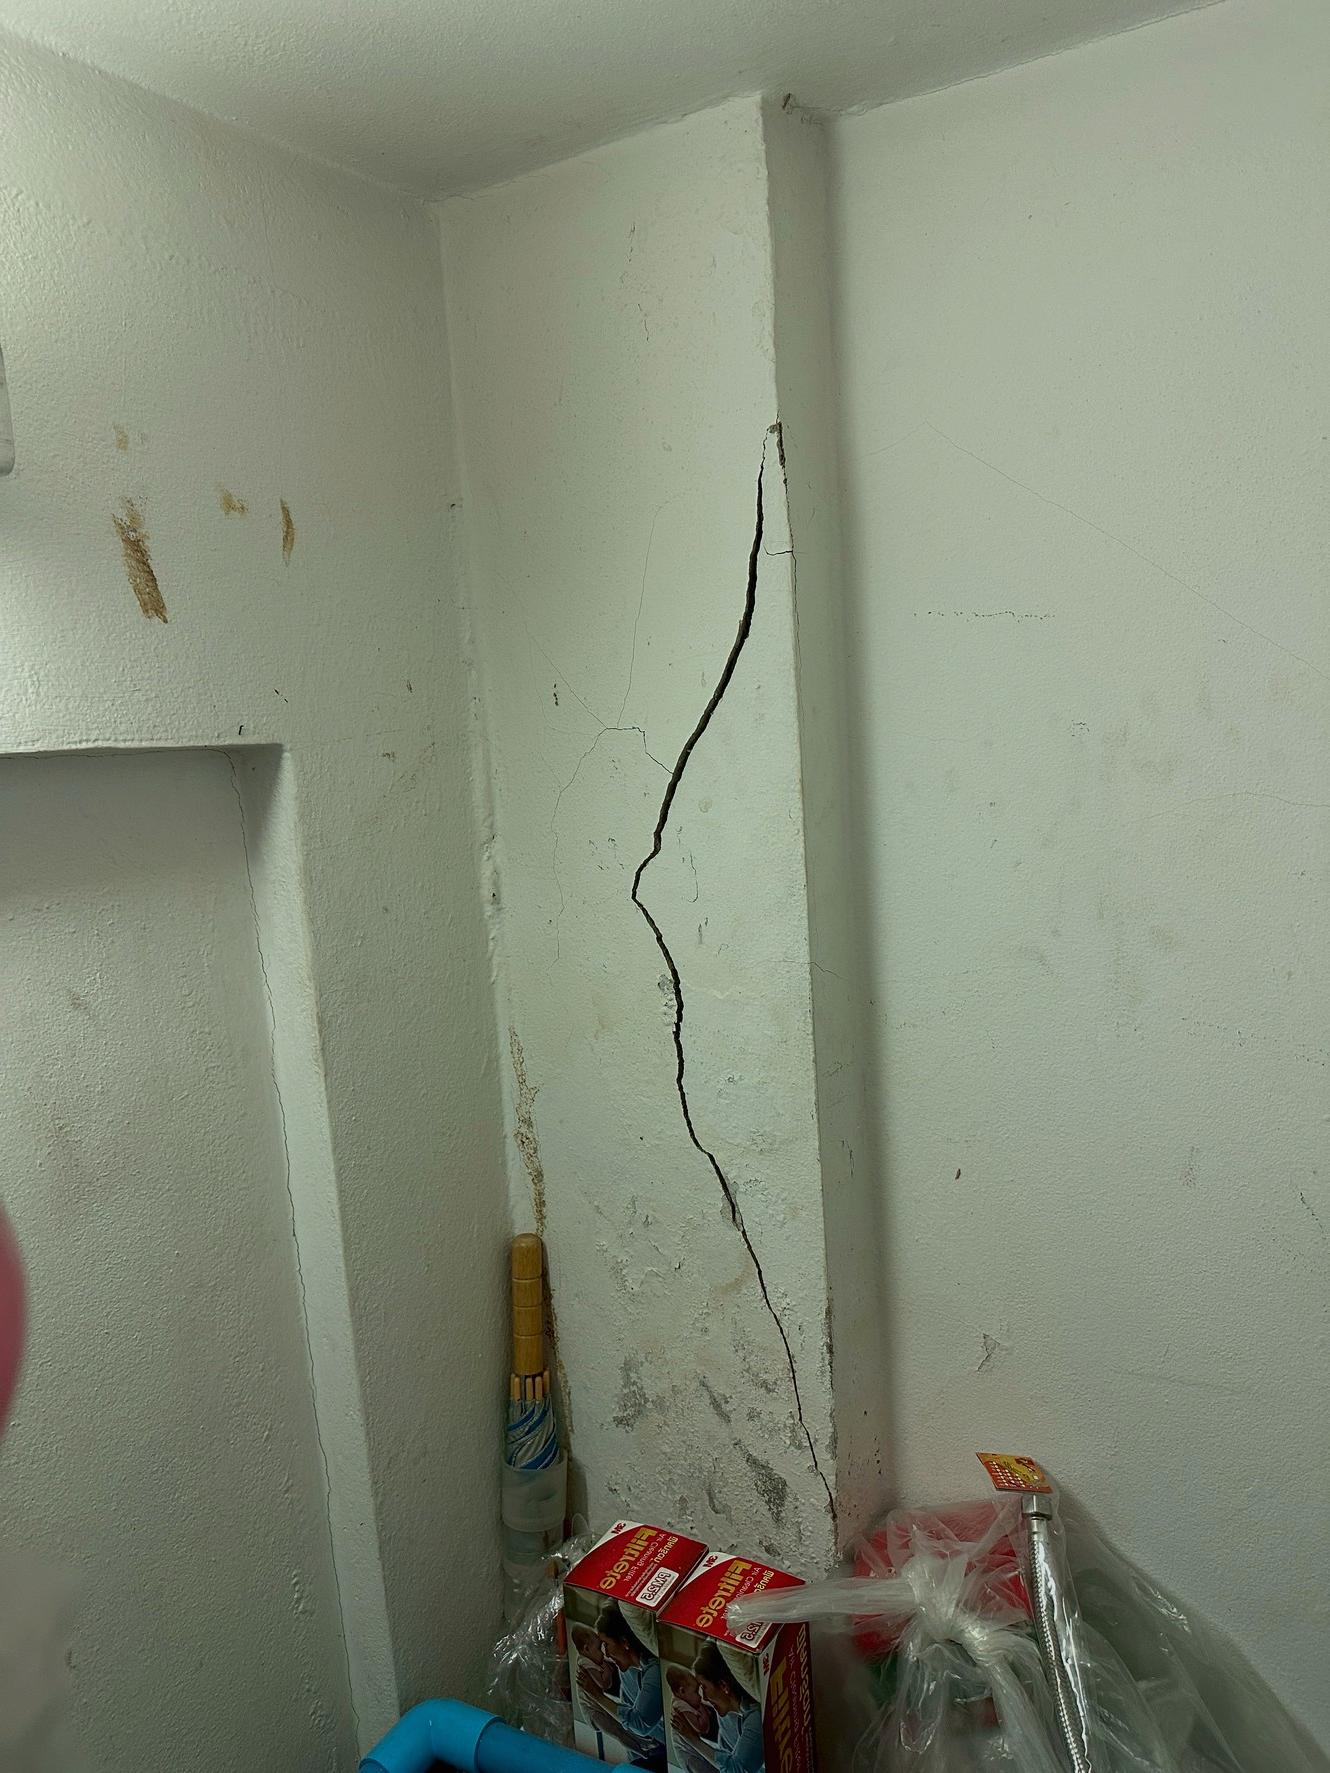High: (556, 400, 933, 1522)
